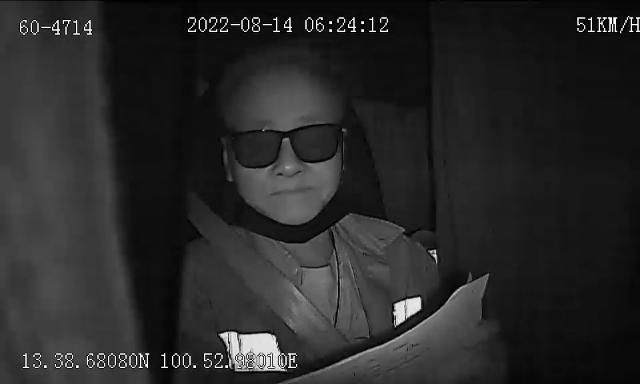Seatbelt: (178, 196, 344, 342)
